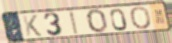0: (109, 8, 129, 32)
3: (43, 11, 65, 37)
I: (68, 10, 80, 36)
K: (22, 14, 43, 37)
O: (85, 8, 110, 35), (128, 6, 153, 31)
